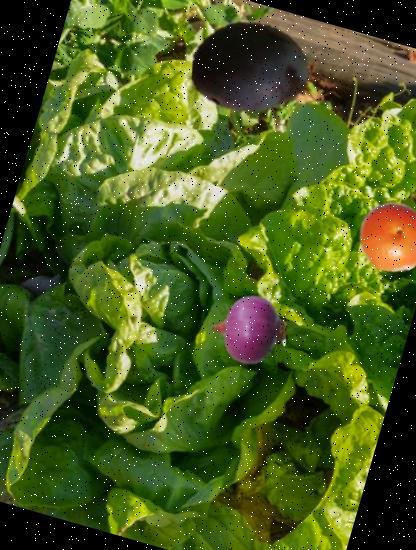Onion: (202, 283, 294, 376)
Plum: (178, 0, 324, 140)
Tangelo: (349, 192, 416, 282)
